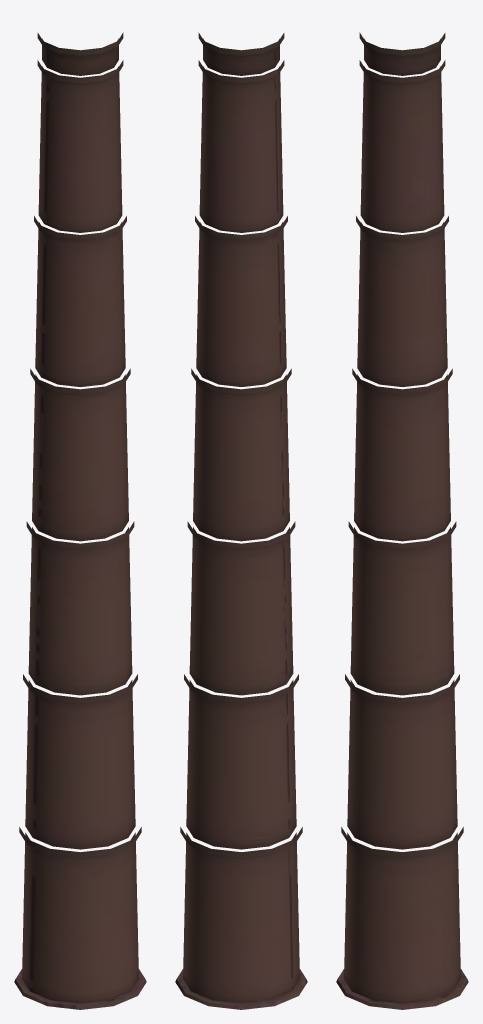
The picture shows the model from 3 angles, left to right: view 1: azimuth 30°, elevation 25°; view 2: azimuth 150°, elevation 25°; view 3: azimuth 330°, elevation 25°; orthographic projection.
Parts seen in each view (by area): view 1: body0_model0_lod0_mesh0; view 2: body0_model0_lod0_mesh0; view 3: body0_model0_lod0_mesh0.
Part boxes in pixels (<box>): body0_model0_lod0_mesh0: <box>14,32,146,1009</box>; body0_model0_lod0_mesh0: <box>175,32,307,1009</box>; body0_model0_lod0_mesh0: <box>336,32,468,1009</box>.
Size of the model in its own units: 9 by 71.12 by 9.
1 material, 1 textured.
